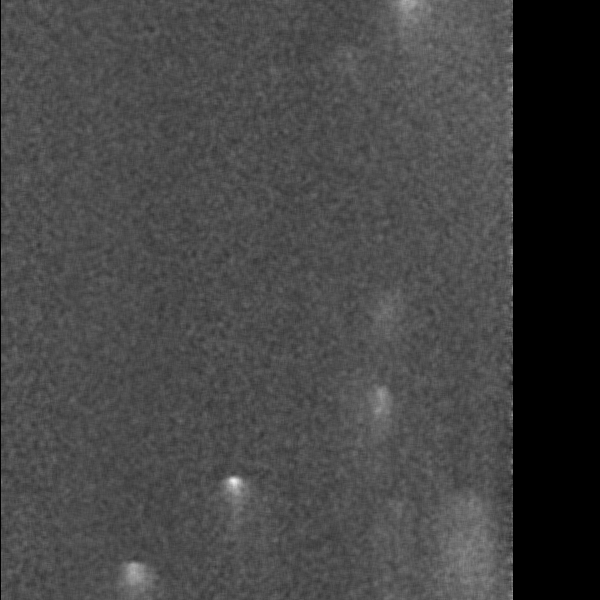spark: (362, 381, 397, 471), (216, 471, 250, 535), (113, 553, 156, 600), (367, 286, 396, 345)
